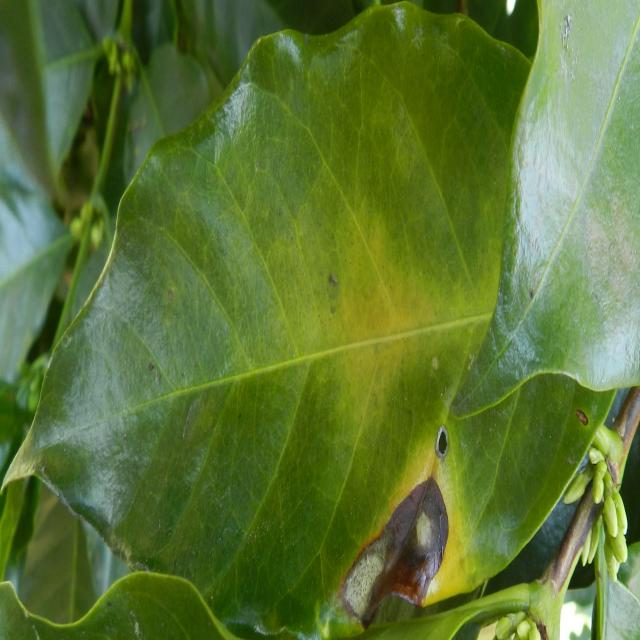Enfermedad-Mancha-de-hierro: (33, 4, 619, 636)
